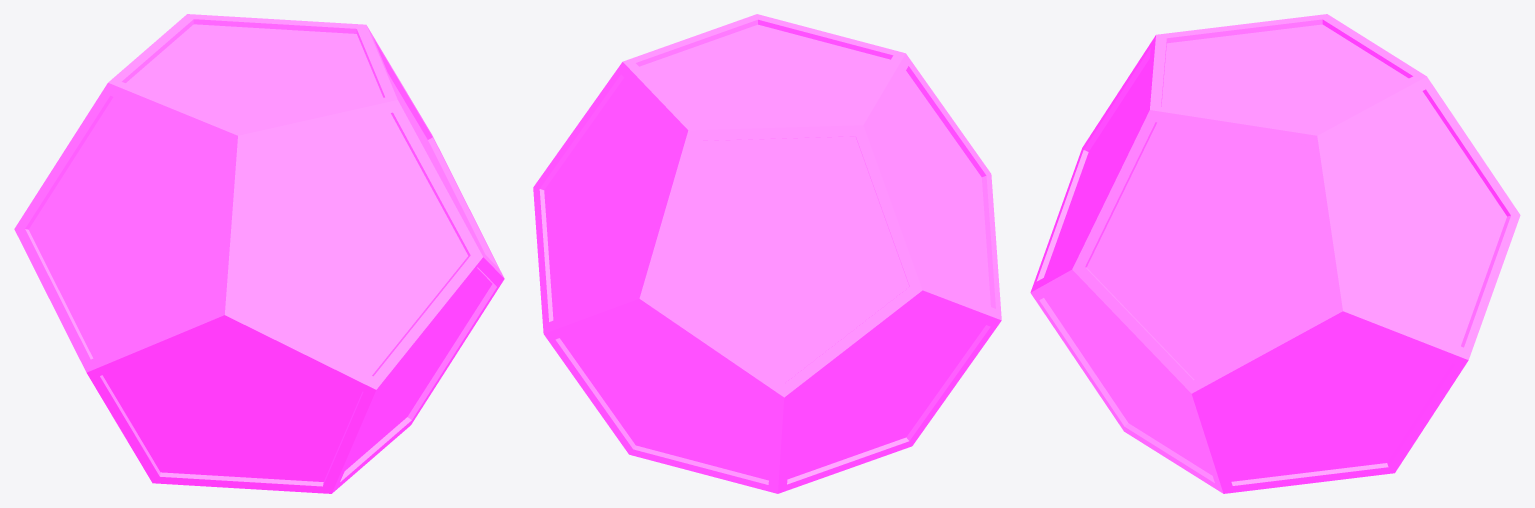
The model's file is SFI0210007.fbx.
The picture shows the model from 3 angles, left to right: view 1: azimuth 30°, elevation 25°; view 2: azimuth 150°, elevation 25°; view 3: azimuth 270°, elevation 25°; orthographic projection. The views are drawn at different scales.
Parts seen in each view (by area): view 1: smSFI0210007; view 2: smSFI0210007; view 3: smSFI0210007.
Part boxes in pixels (bbox=[...]): smSFI0210007: bbox=[14, 14, 504, 493]; smSFI0210007: bbox=[533, 14, 1001, 493]; smSFI0210007: bbox=[1030, 14, 1520, 493].
Size of the model in its own units: 134 by 113 by 139.
